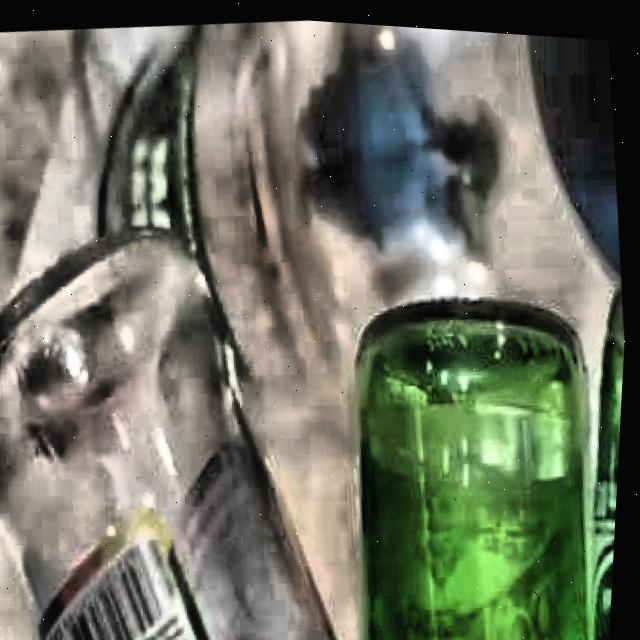glass: (0, 232, 341, 640), (359, 283, 628, 640)
